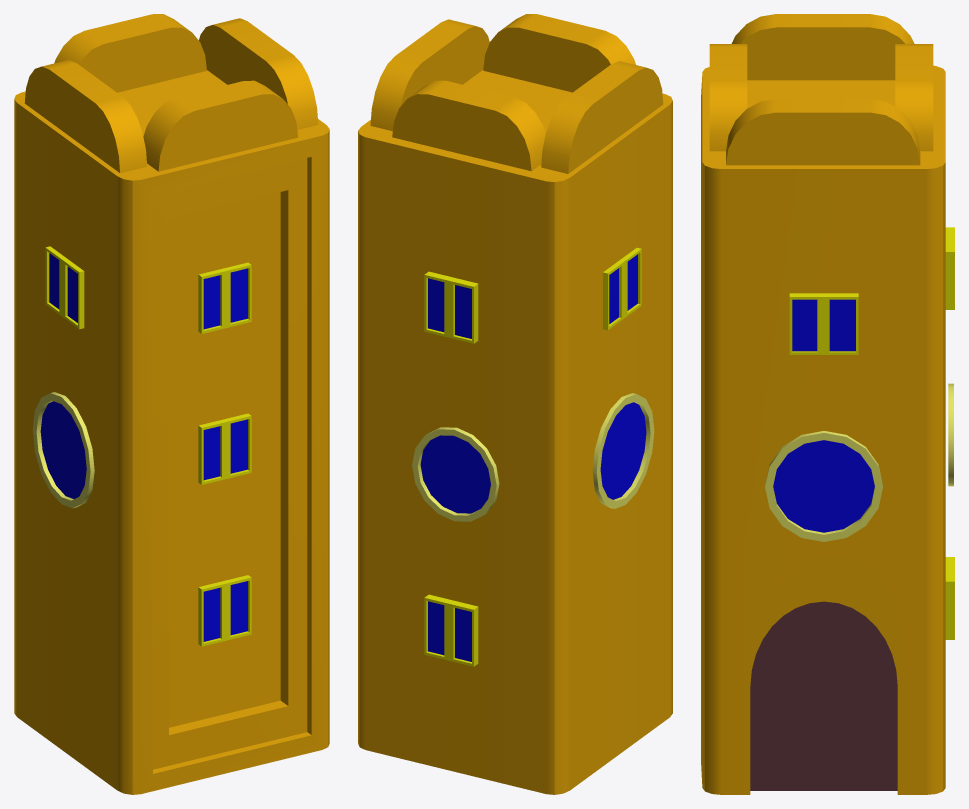
The picture shows the model from 3 angles, left to right: view 1: azimuth 30°, elevation 25°; view 2: azimuth 150°, elevation 25°; view 3: azimuth 270°, elevation 25°; orthographic projection. The views are drawn at different scales.
Visible parts, largest first — view 1: polySurface128, pCube81, pCube83, pCube82, pCube84, pTorus9, pCube109, pCube110, pCube111, pCube134; view 2: polySurface128, pCube82, pCube83, pCube81, pTorus8, pCube84, pTorus9, pCube113, pCube114, pCube134; view 3: polySurface128, pCube84, pCube83, pTorus7, pCube112, pCube81, pCube82, pCube113, pCube114, pTorus8.
Boxes of the visible parts, x1,y1,x2,y2 form: polySurface128: (14, 70, 329, 794); pCube81: (143, 80, 298, 171); pCube83: (24, 60, 147, 173); pCube82: (54, 14, 206, 92); pCube84: (199, 18, 318, 129); pTorus9: (32, 392, 94, 508); pCube109: (198, 262, 251, 333); pCube110: (198, 413, 251, 484); pCube111: (198, 575, 251, 646); pCube134: (45, 246, 84, 329); polySurface128: (358, 70, 672, 794); pCube82: (392, 80, 545, 171); pCube83: (541, 61, 663, 173); pCube81: (483, 14, 635, 92); pTorus8: (412, 427, 499, 521); pCube84: (370, 19, 489, 131); pTorus9: (592, 393, 654, 508); pCube113: (424, 271, 478, 343); pCube114: (424, 594, 478, 666); pCube134: (603, 247, 641, 330); polySurface128: (701, 65, 945, 794); pCube84: (726, 99, 920, 165); pCube83: (731, 14, 914, 80); pTorus7: (765, 431, 882, 541); pCube112: (789, 293, 858, 354); pCube81: (709, 44, 747, 151); pCube82: (895, 44, 933, 151); pCube113: (945, 227, 954, 309); pCube114: (945, 557, 954, 639); pTorus8: (948, 383, 953, 486).
Size of the model in its own units: 18.67 by 52.17 by 17.67.
